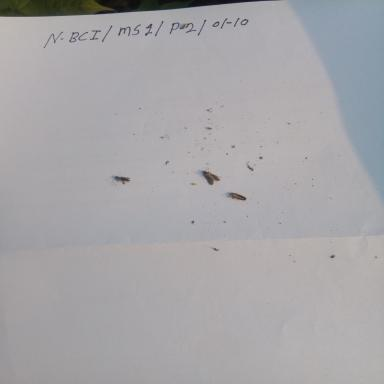pbw: (199, 169, 226, 186), (230, 189, 252, 208), (112, 174, 131, 186), (225, 192, 247, 202)
